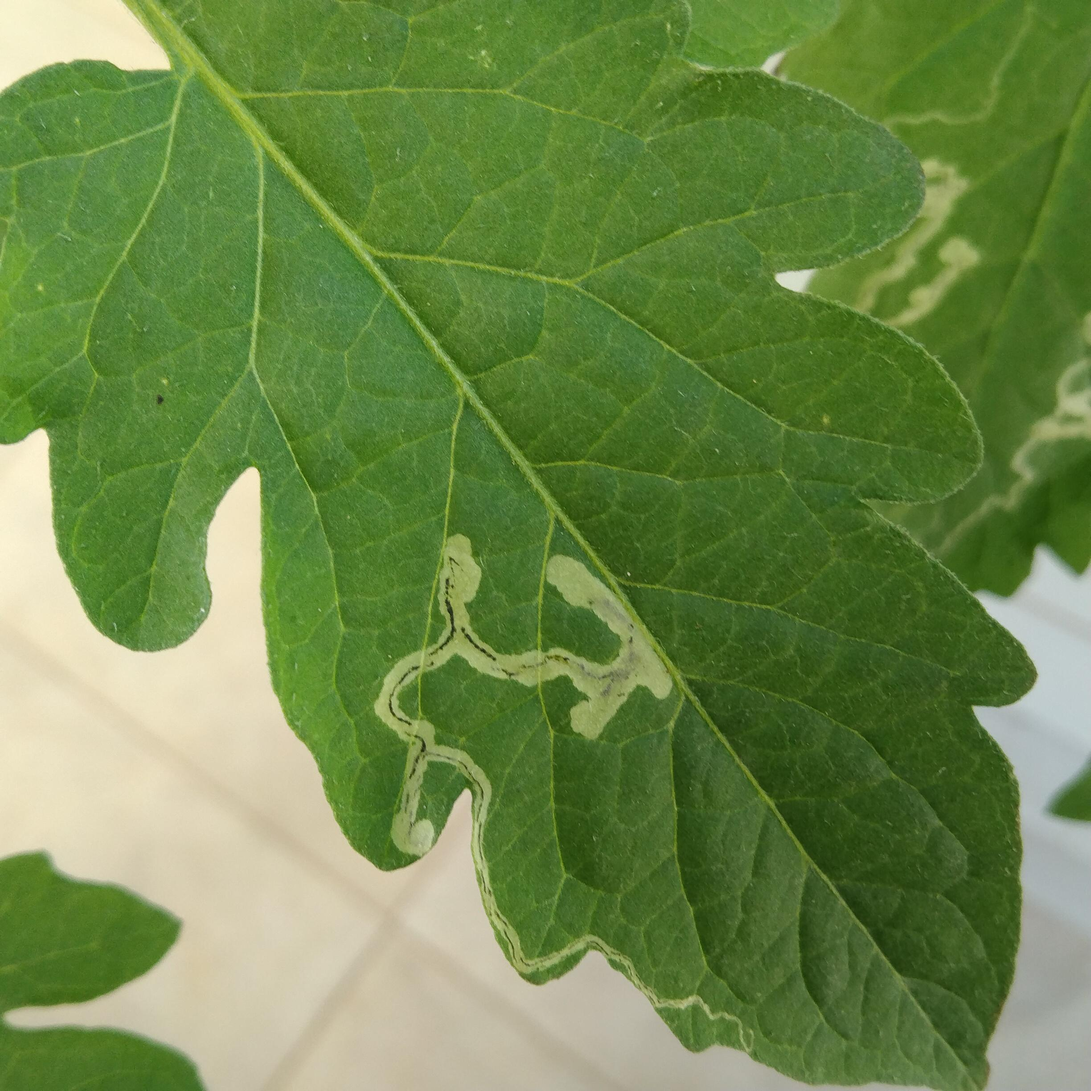Leaf_Miner: (0, 310, 648, 769), (497, 809, 972, 1091)
